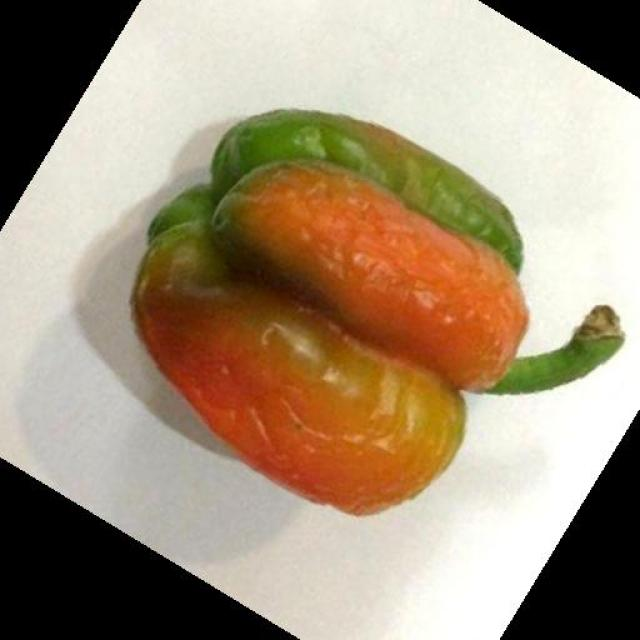Stale_Capsicum: (150, 140, 521, 508)
